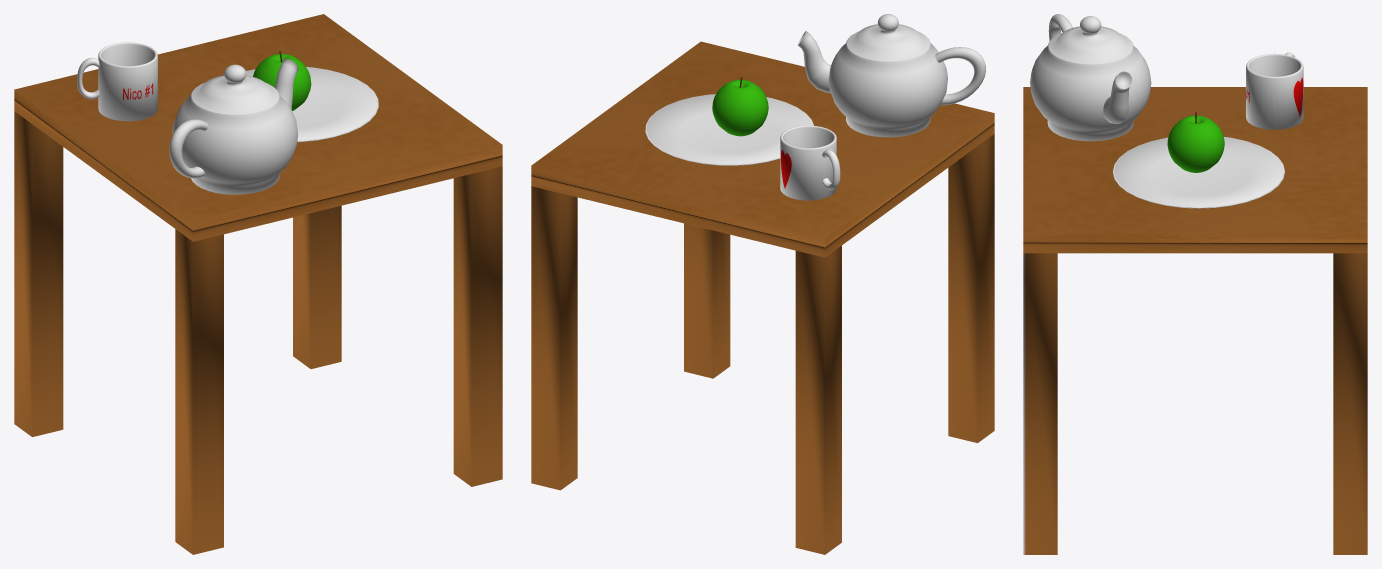
3 renders of one model, left to right at view 1: azimuth 30°, elevation 25°; view 2: azimuth 150°, elevation 25°; view 3: azimuth 270°, elevation 25°, orthographic. The views are drawn at different scales.
Parts seen in each view (by area): view 1: Table, Teapot, Cup, Plate, Apple; view 2: Table, Teapot, Plate, Cup, Apple; view 3: Table, Teapot, Plate, Cup, Apple.
Part boxes in pixels (x1=…): Table: x1=14, y1=14, x2=502, y2=554; Teapot: x1=169, y1=58, x2=298, y2=194; Cup: x1=77, y1=42, x2=157, y2=121; Plate: x1=246, y1=67, x2=378, y2=142; Apple: x1=253, y1=51, x2=311, y2=110; Table: x1=531, y1=41, x2=994, y2=554; Teapot: x1=797, y1=14, x2=985, y2=137; Plate: x1=645, y1=94, x2=813, y2=165; Cup: x1=780, y1=125, x2=840, y2=200; Apple: x1=712, y1=77, x2=768, y2=136; Table: x1=1023, y1=87, x2=1367, y2=554; Teapot: x1=1030, y1=14, x2=1151, y2=141; Plate: x1=1113, y1=137, x2=1284, y2=208; Cup: x1=1246, y1=52, x2=1303, y2=129; Apple: x1=1167, y1=112, x2=1224, y2=172.
Size of the model in its own units: 12.26 by 16.47 by 12.
5 materials, 5 textured.
